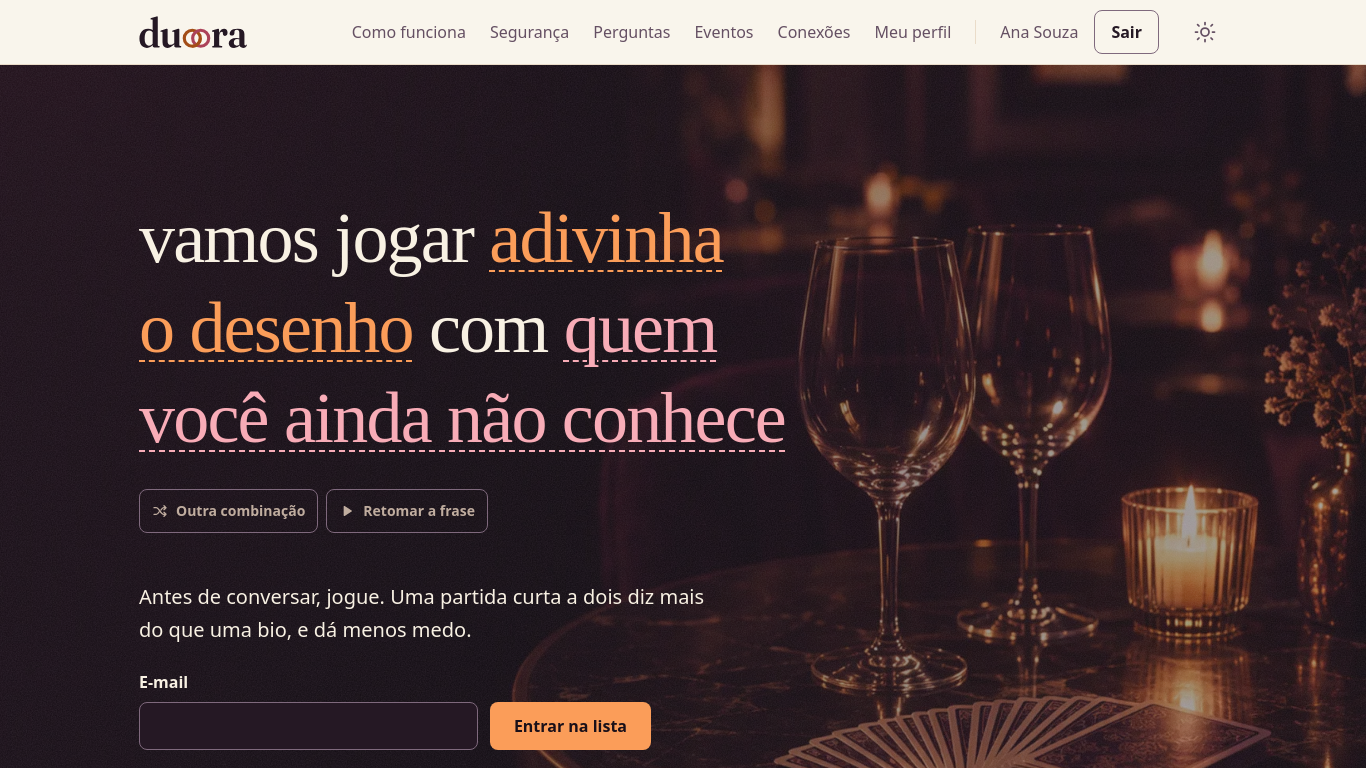
Test: session controls (desktop) › disables "Sair" while logging out, so a second click does not post again
Click the button "Sair" at [1127, 32], box x1=1094 y1=10 x2=1159 y2=54
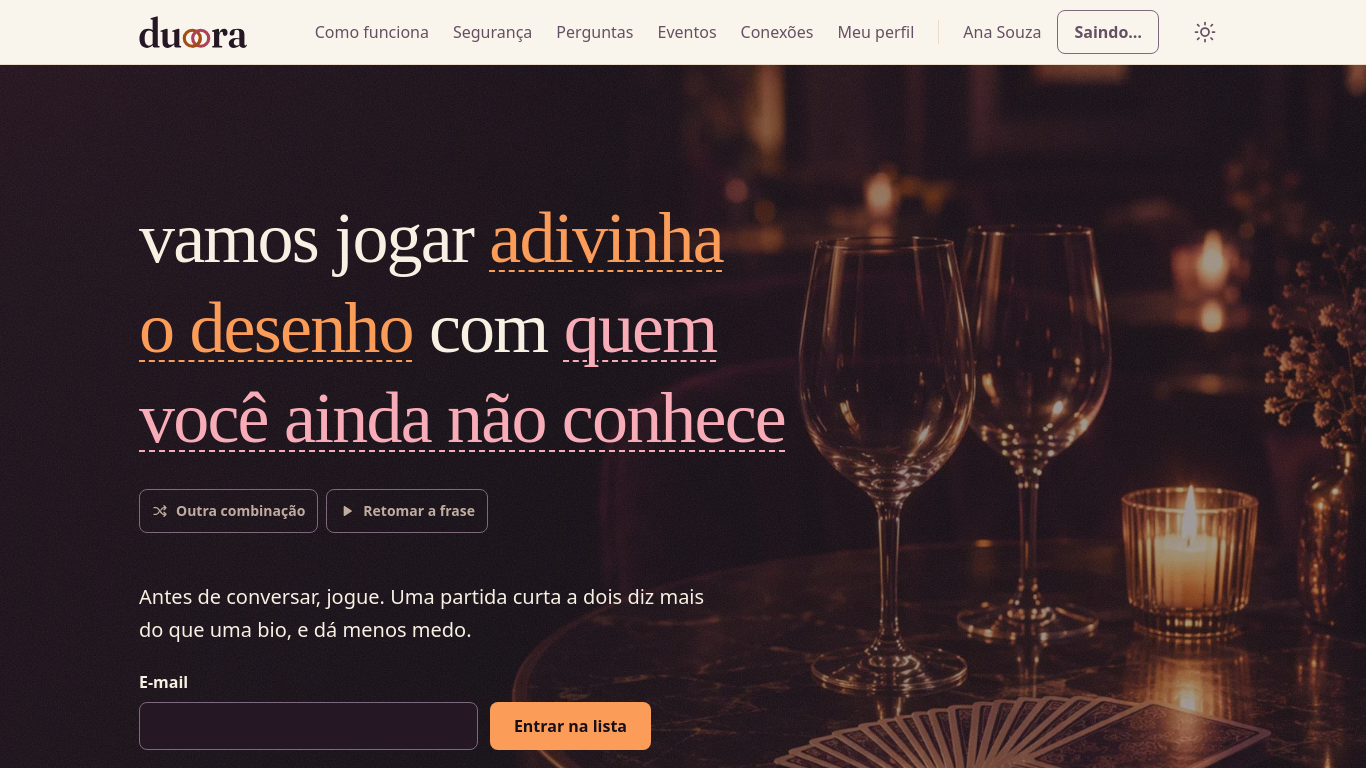
Result: the button "Saindo…" is disabled at x1=1057 y1=10 x2=1159 y2=54
